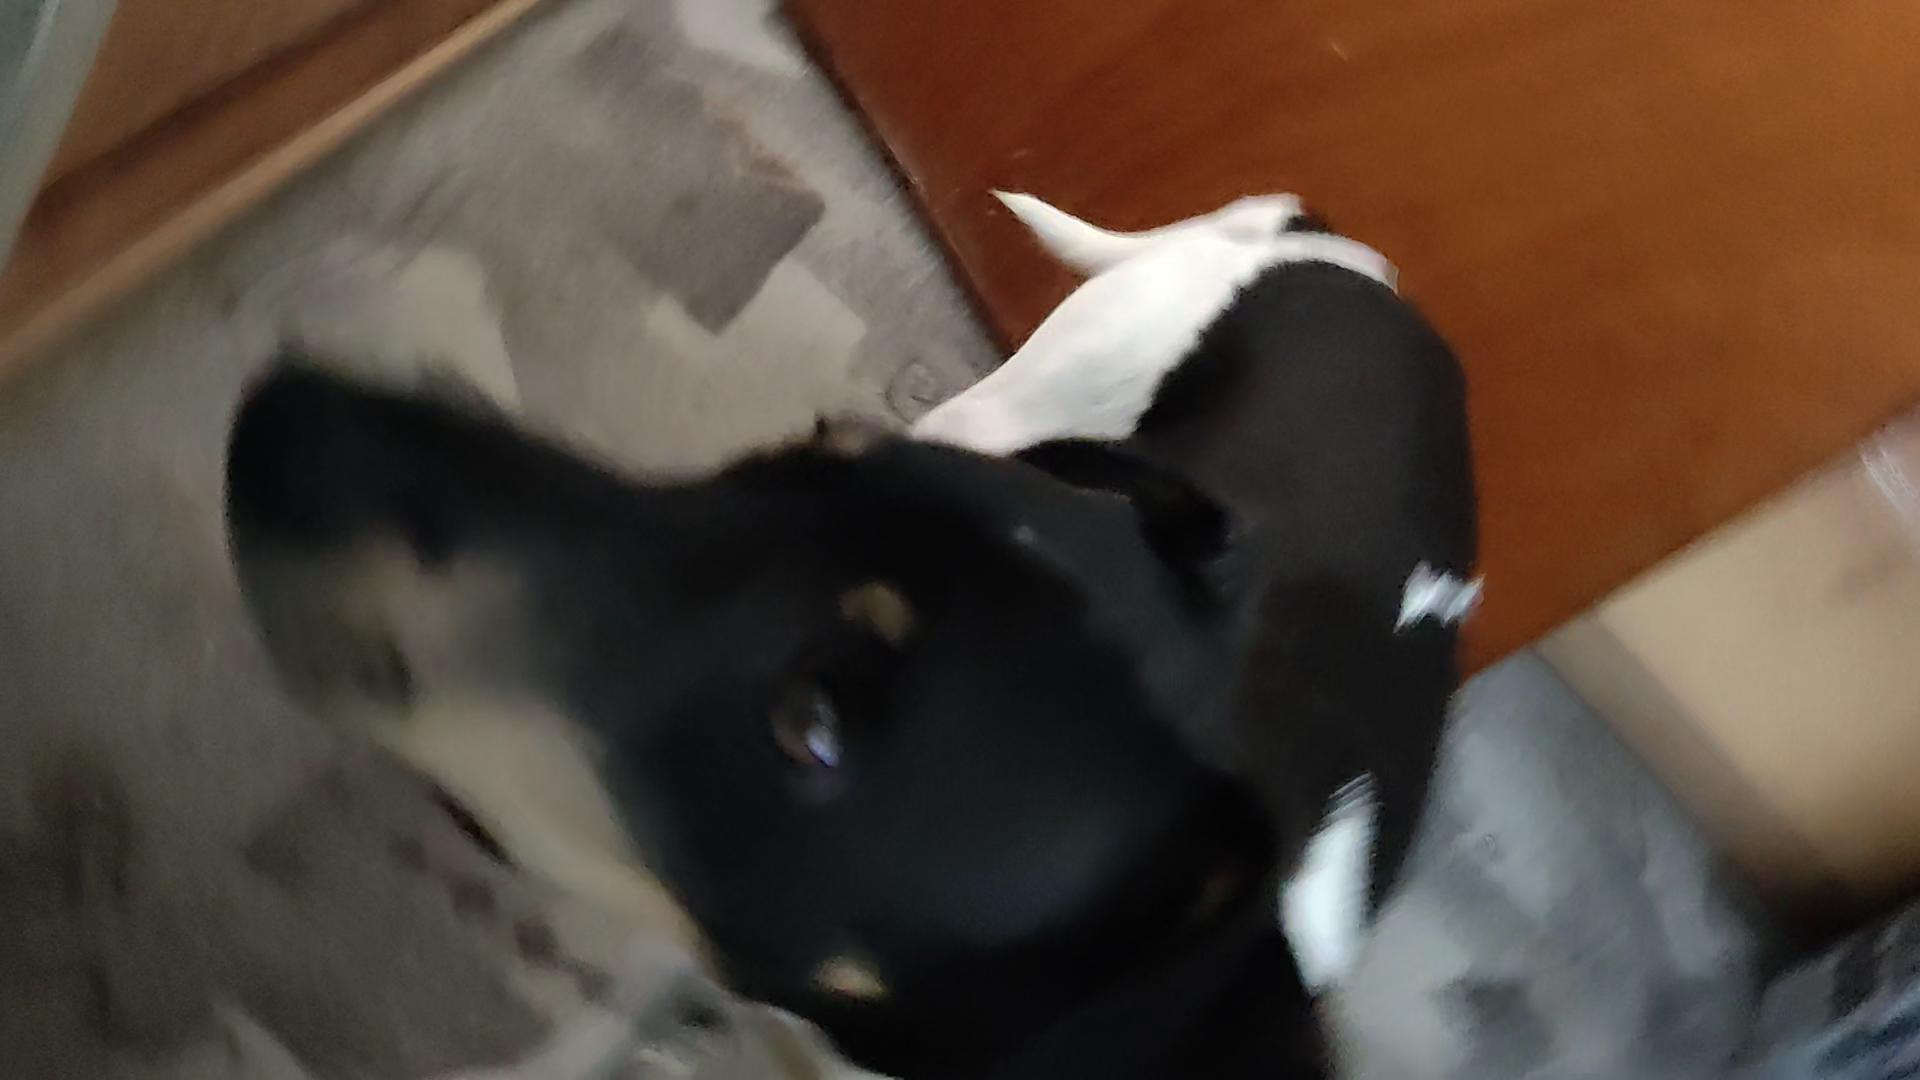Dog: (173, 112, 1513, 1079)
